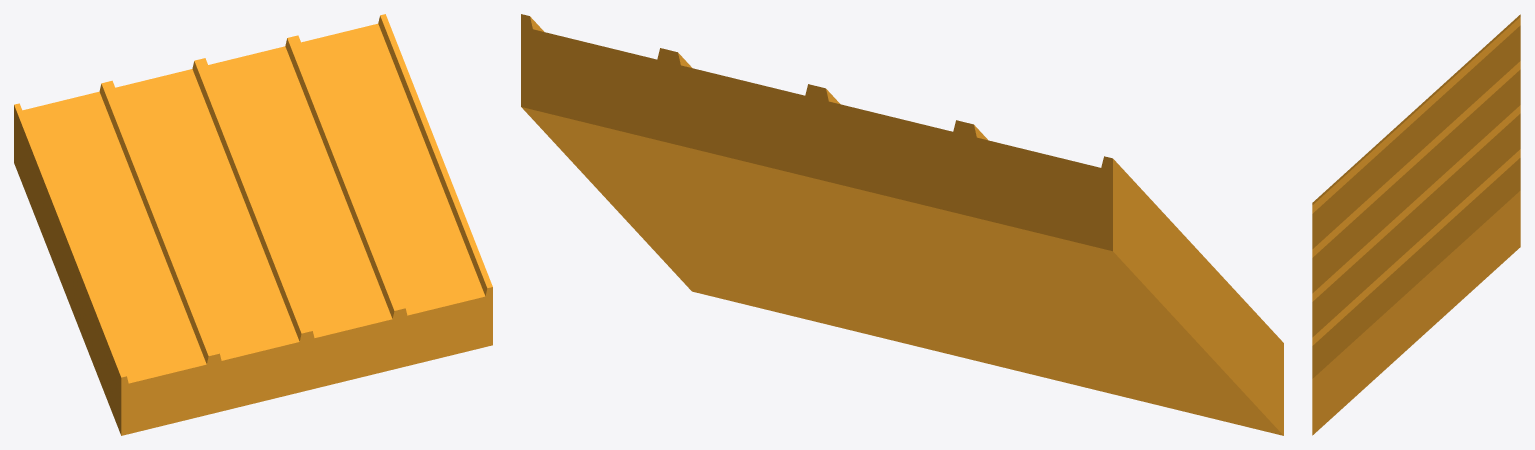
File: SM_Roof_Metal_Regular_2x1m.fbx
3 views of the same model, side by side, from view 1: azimuth 30°, elevation 25°; view 2: azimuth 150°, elevation 25°; view 3: azimuth 270°, elevation 25° (orthographic). The views are drawn at different scales.
Parts seen in each view (by area): view 1: roof-metal-regular-2x1m; view 2: roof-metal-regular-2x1m; view 3: roof-metal-regular-2x1m.
Part boxes in pixels (x1,y1,x2,y2): roof-metal-regular-2x1m: (14,14,492,435); roof-metal-regular-2x1m: (521,14,1283,435); roof-metal-regular-2x1m: (1312,14,1520,435).
Size of the model in its own units: 2 by 1.3 by 1.
